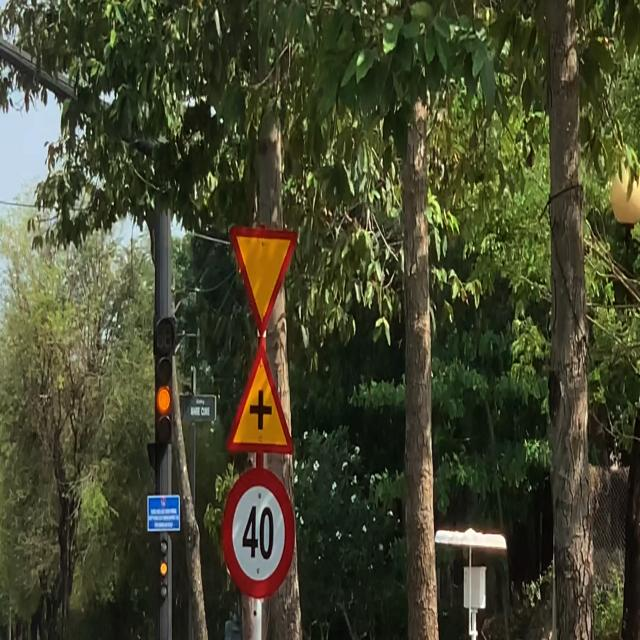Duong giao nhau: (221, 334, 295, 463)
Giao voi duong uu tien: (228, 217, 298, 338)
Toc do toi da: (218, 469, 300, 604)
